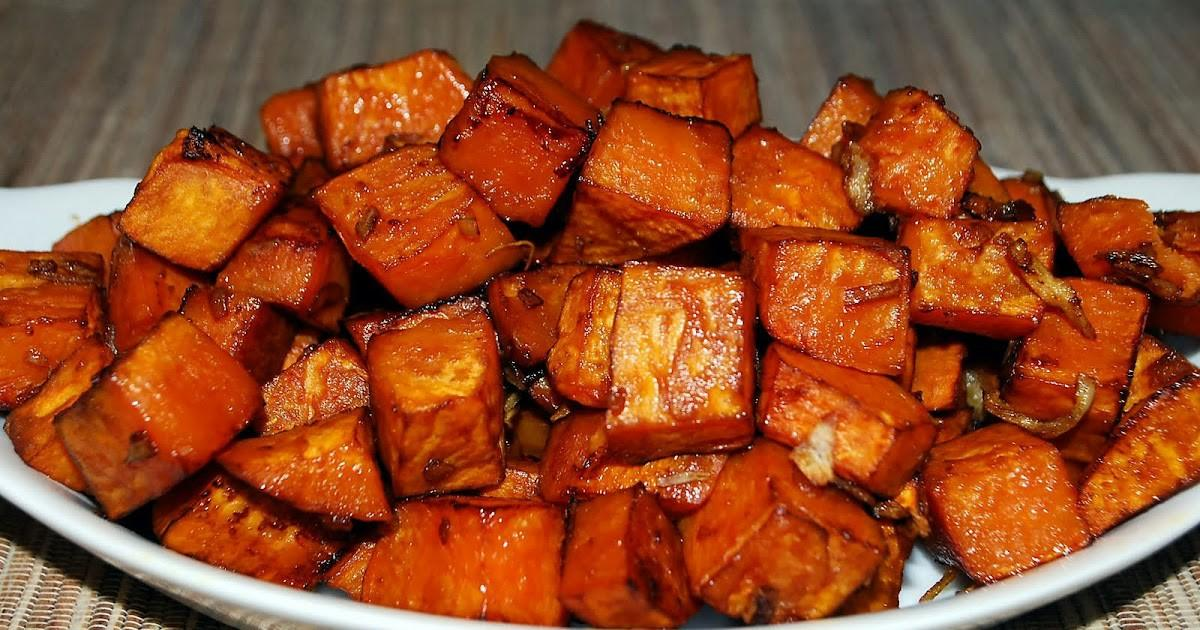AlooMasala: (0, 17, 1200, 630)
